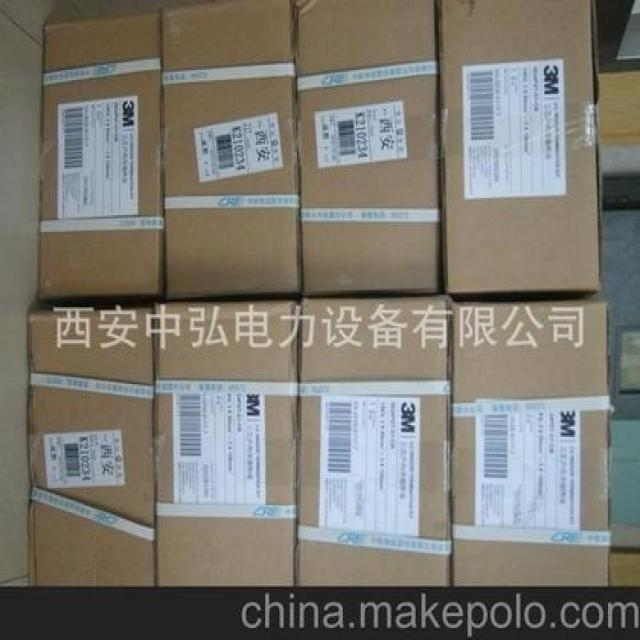box: (435, 0, 598, 300), (296, 297, 454, 585), (451, 299, 608, 585), (292, 3, 439, 302), (154, 300, 301, 587), (163, 2, 301, 305), (35, 12, 164, 311), (28, 305, 157, 587)
